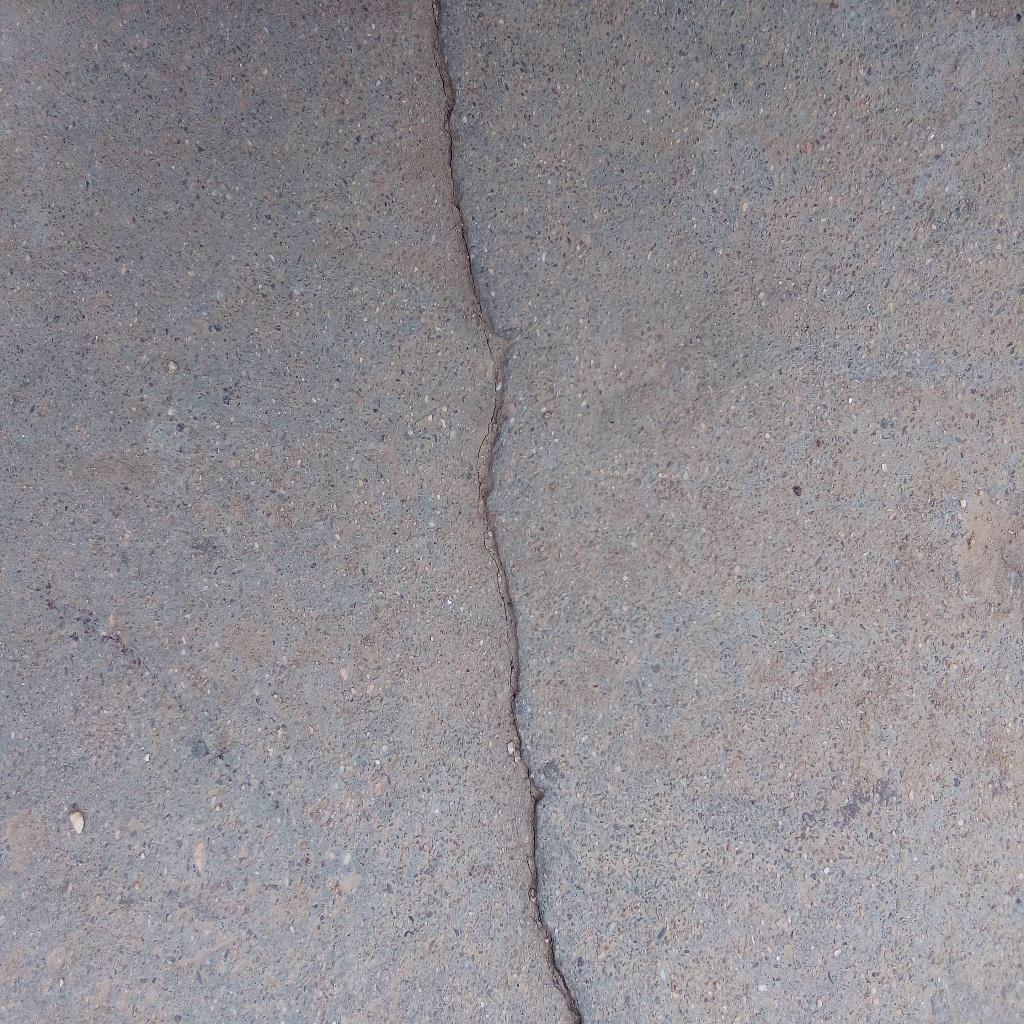Crack: (430, 1, 588, 1024)
